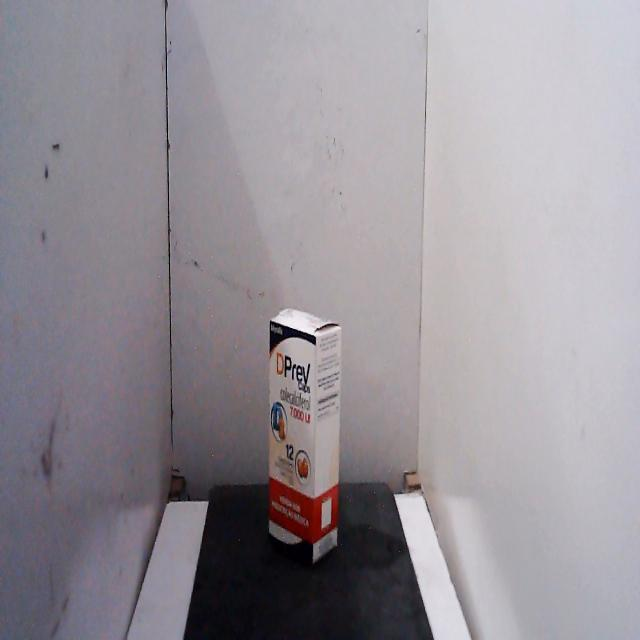papel: (265, 292, 345, 570)
